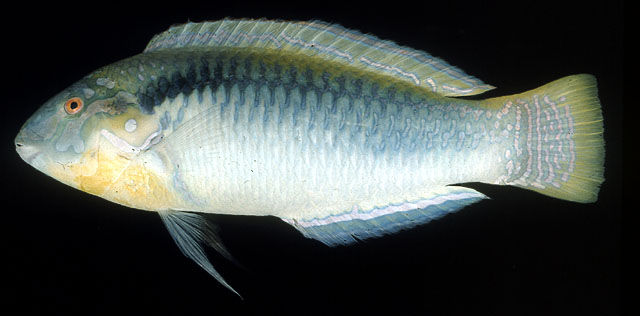fish: (15, 17, 607, 297)
